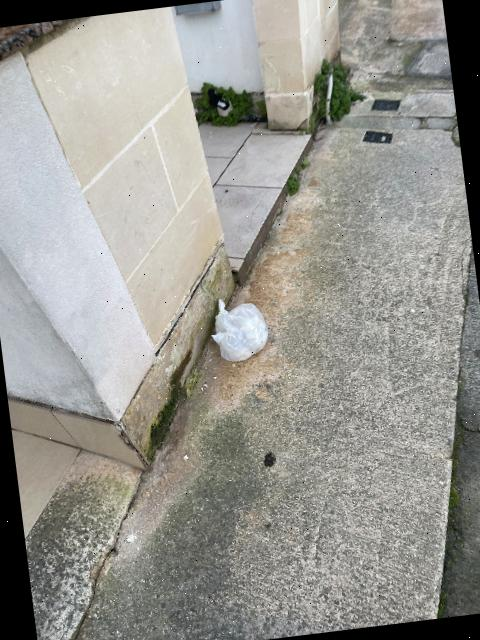Organic -White-: (212, 299, 268, 361)
